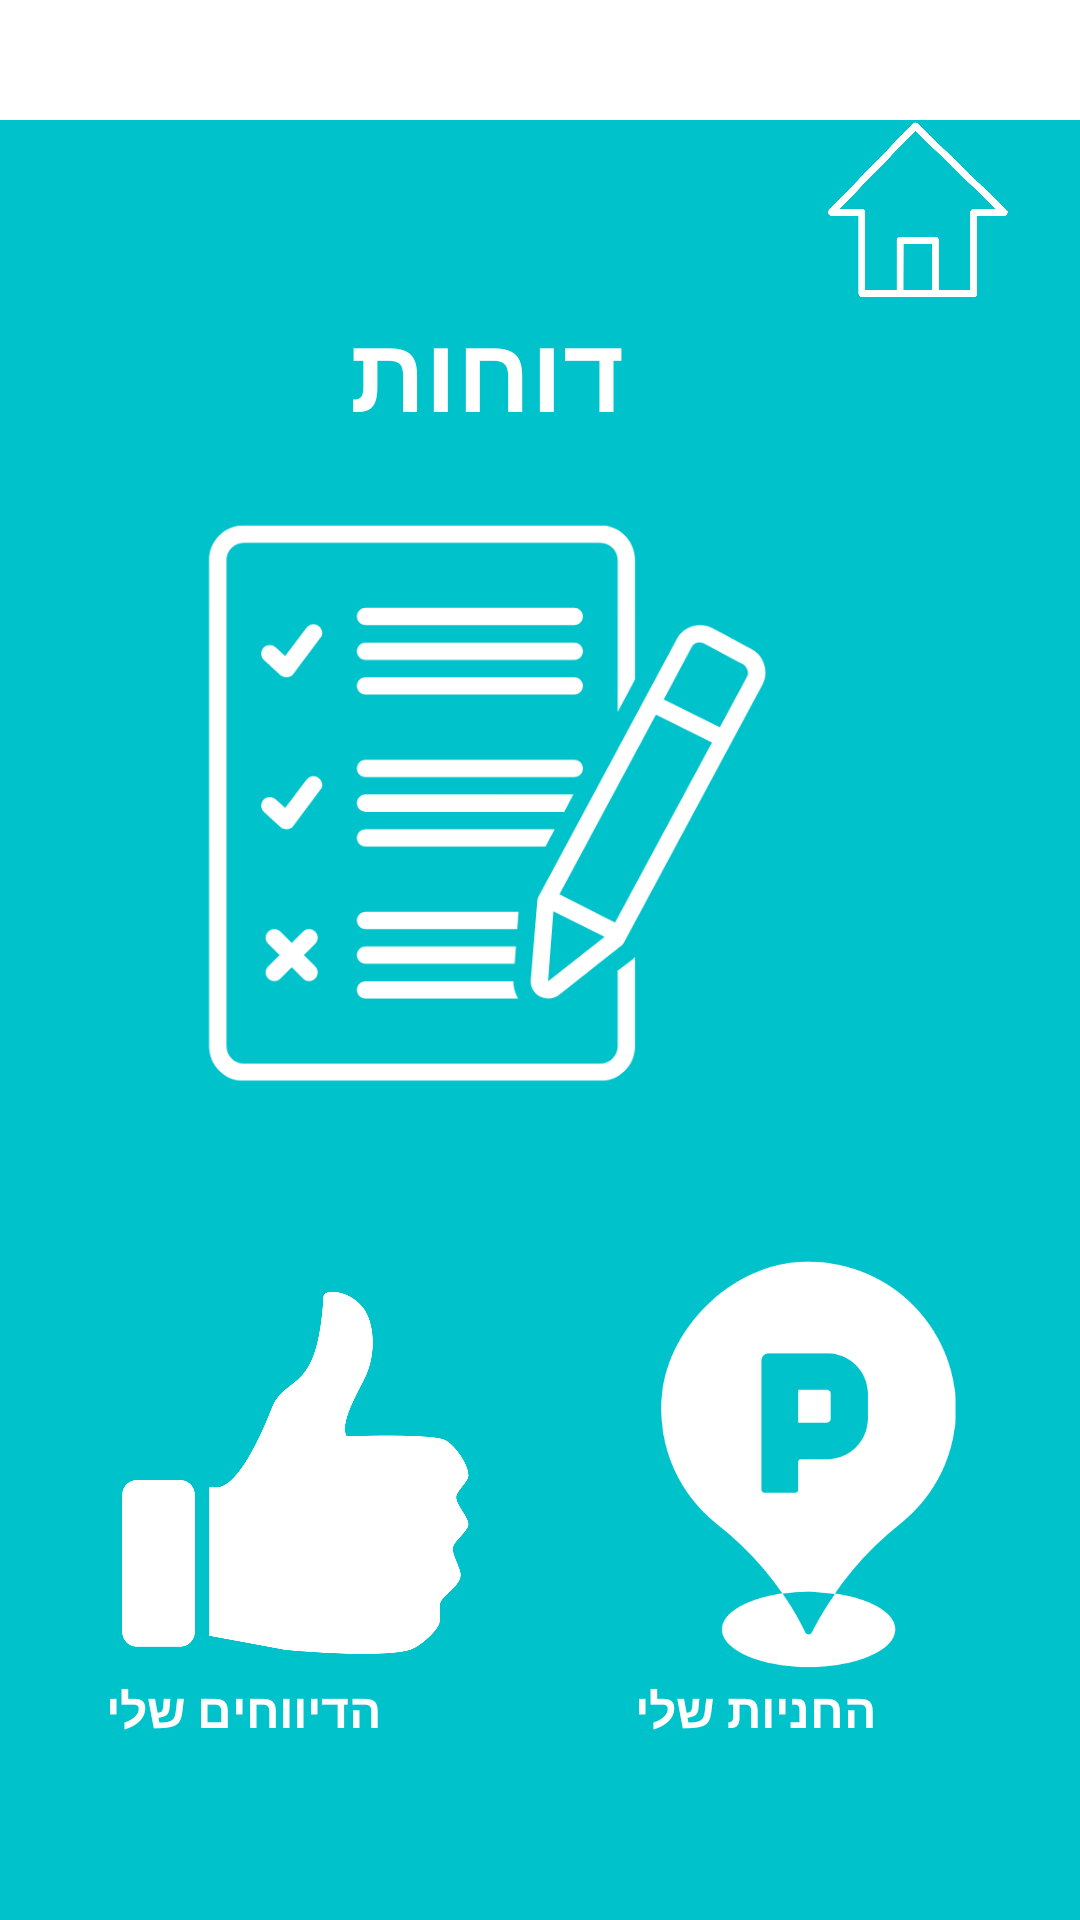

Icons on this 1080 × 1920 Android screen, each with the point to tap as [x,y]:
home: [918,209]
